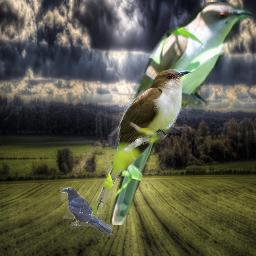Crow: (60, 187, 113, 237)
Cuckoo: (110, 2, 256, 225), (90, 68, 192, 219)
